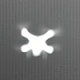plane: (16, 23, 63, 59)
